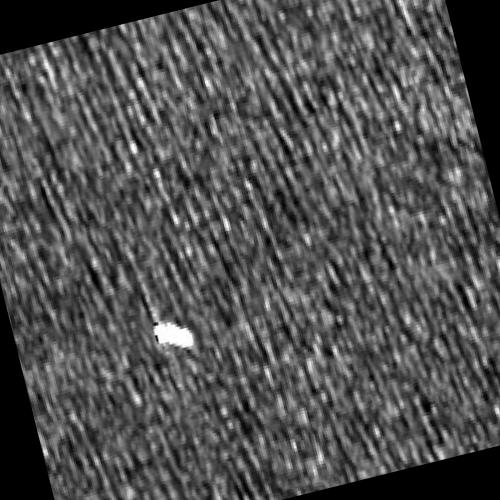ship: (152, 320, 194, 350)
